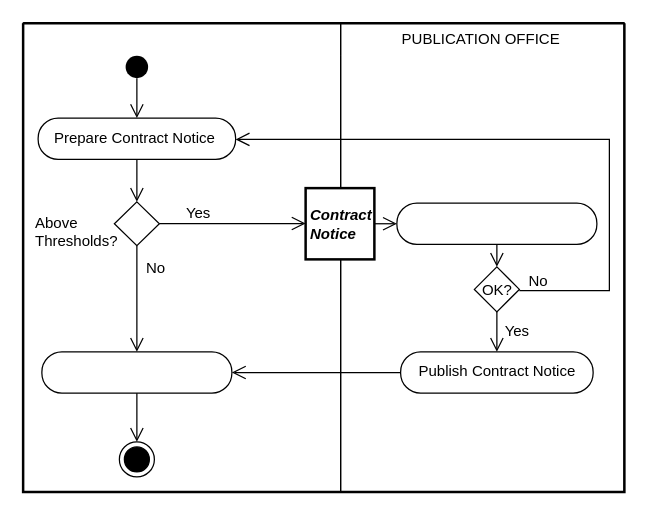
The diagram is 646 pixels wide and 514 high, and some of its shapes have lost their labels. The shapes that lost their labels are listed below. From the top down, each one's box as (x1, y1, x2, y2) in pixels, then its label:
(396, 202, 597, 244): Validate Contract Notice
(22, 22, 341, 492): CONTRACTING AUTHORITY
(41, 351, 232, 393): Publish in Buyer Profile
